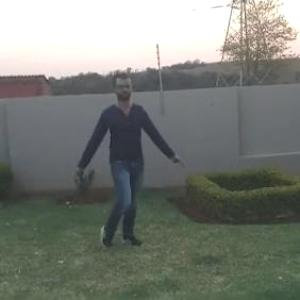land: (55, 64, 180, 272)
